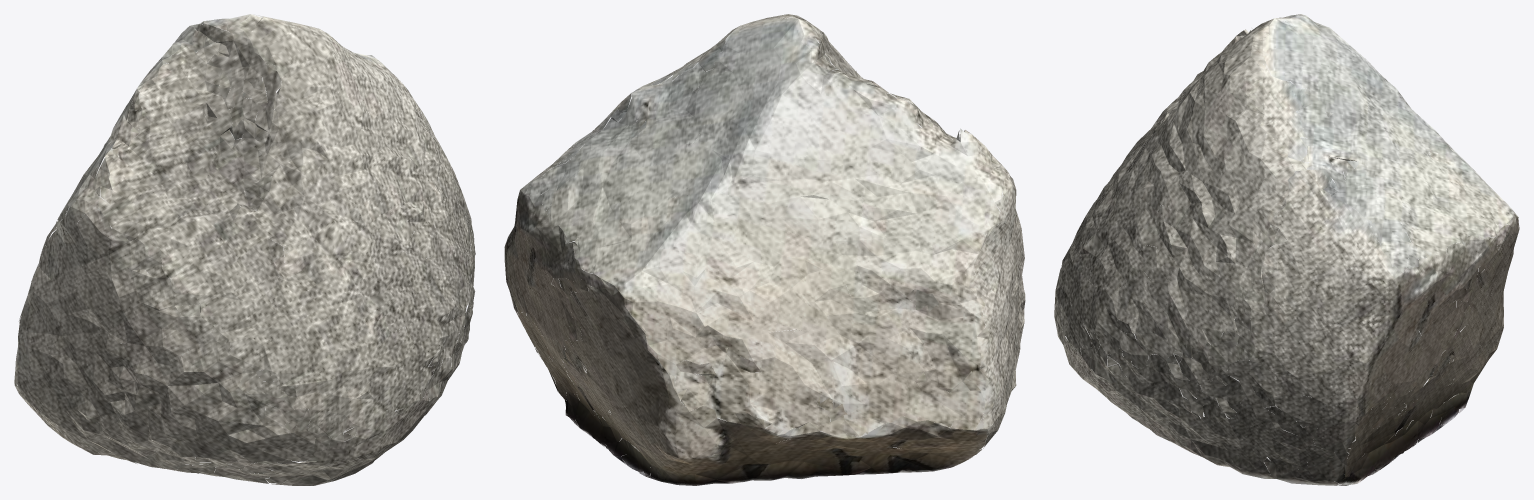
The model's file is boulder.glb.
The picture shows the model from 3 angles, left to right: view 1: azimuth 30°, elevation 25°; view 2: azimuth 150°, elevation 25°; view 3: azimuth 270°, elevation 25°; orthographic projection. The views are drawn at different scales.
Visible parts, largest first — view 1: world; view 2: world; view 3: world.
Part boxes in pixels (left/top/right/bottom): world: left=14, top=14, right=475, bottom=485; world: left=504, top=14, right=1025, bottom=485; world: left=1054, top=14, right=1519, bottom=485.
Size of the model in its own units: 0.9016 by 0.7773 by 0.8451.
Materials: 1 (1 with a texture image).
